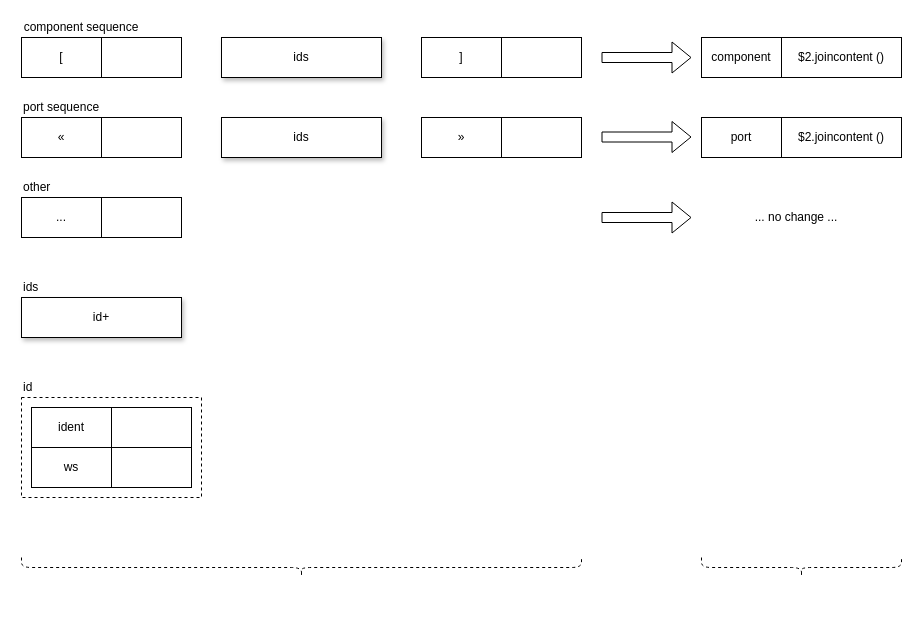
Some shapes in this 919 by 624 pixel diagram are drawn without their labels. Here are the shapes that lost their labels. From the top down, the centre of each, then its label:
At (x=301, y=567): "match".
At (x=801, y=567): "format".
